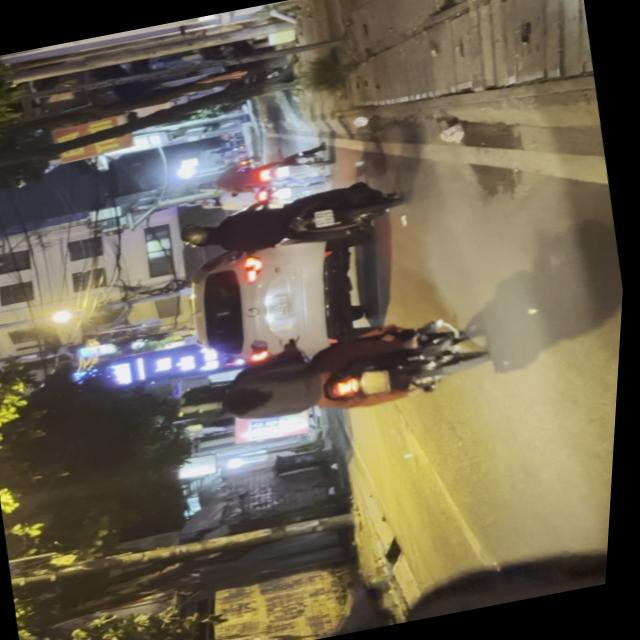helmet: (178, 382, 236, 426), (180, 226, 218, 252)
licenseplate: (25, 516, 616, 640), (170, 305, 498, 449), (175, 176, 407, 270)
nohelmet: (362, 369, 394, 398), (314, 209, 337, 228)
